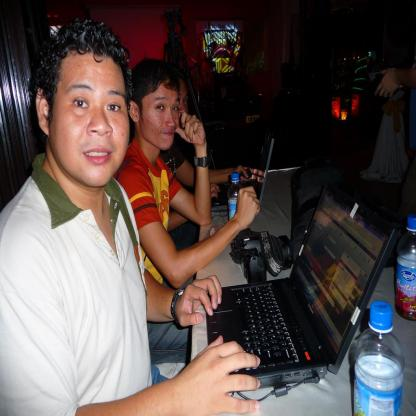board: (207, 184, 399, 387), (354, 300, 405, 416), (211, 130, 273, 210), (396, 217, 416, 322), (229, 173, 241, 223)
